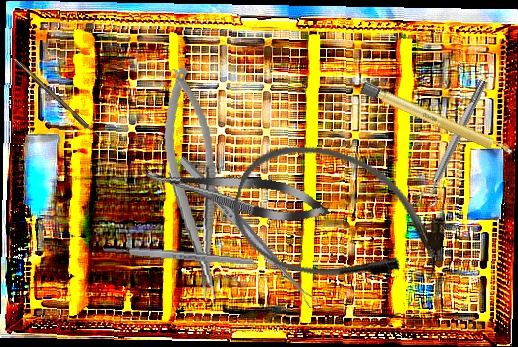Cannula: (219, 126, 460, 312)
Fixation Ring: (414, 76, 495, 210)
Hook Surgical: (12, 56, 103, 142)
Micro Scissor: (137, 153, 332, 231)
Needle Holder: (157, 65, 228, 303)
Scalpel Handle: (358, 80, 518, 161), (102, 244, 255, 267)
Surgical Spoon: (176, 154, 319, 310)
